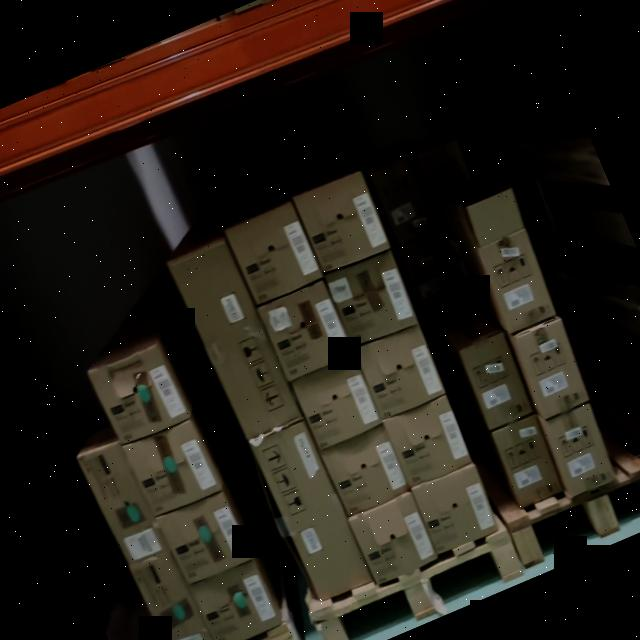box: (169, 243, 304, 446), (254, 427, 372, 602), (75, 437, 172, 570), (82, 338, 186, 444), (295, 170, 393, 278), (154, 484, 255, 586), (125, 416, 223, 516), (256, 281, 352, 383), (290, 356, 386, 456), (348, 488, 442, 588), (227, 203, 321, 299), (326, 253, 417, 342), (511, 320, 594, 415), (414, 465, 502, 553), (474, 230, 553, 326), (360, 327, 443, 416), (388, 402, 472, 488), (324, 436, 410, 520), (544, 402, 618, 496), (133, 551, 210, 640), (192, 563, 279, 640), (460, 338, 533, 426), (394, 227, 463, 315), (492, 418, 562, 504), (369, 156, 434, 240)
